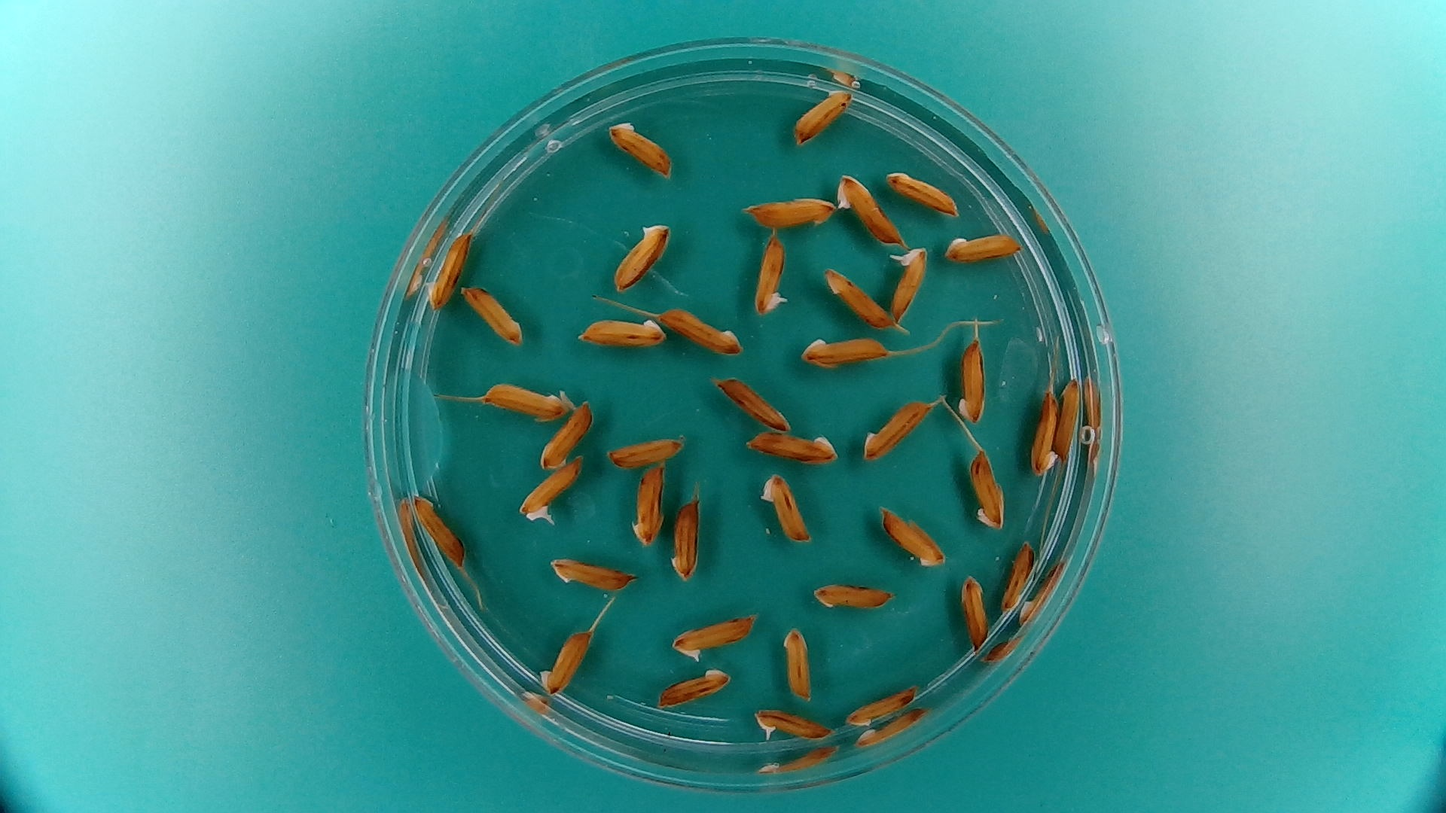no: (859, 395, 934, 464), (820, 264, 898, 330), (710, 372, 795, 431), (657, 303, 749, 357), (877, 501, 948, 570), (609, 218, 673, 294), (408, 491, 468, 569), (604, 116, 677, 179), (477, 376, 574, 422), (537, 394, 595, 470), (423, 227, 474, 312), (536, 625, 595, 697), (758, 469, 814, 544), (461, 281, 526, 345), (789, 84, 855, 147), (545, 552, 638, 596), (743, 424, 840, 466), (651, 662, 734, 711), (882, 166, 961, 216), (572, 310, 670, 350), (841, 682, 920, 730), (798, 330, 891, 370), (740, 191, 835, 230), (628, 458, 667, 548), (953, 333, 990, 425), (968, 447, 1008, 532), (809, 576, 898, 614), (604, 432, 688, 471), (1050, 372, 1085, 464), (667, 493, 702, 583), (941, 227, 1023, 265), (998, 536, 1036, 616), (1027, 386, 1060, 478), (779, 623, 815, 704), (957, 571, 990, 655)
yes: (831, 169, 906, 245), (667, 607, 762, 662), (516, 453, 586, 526), (749, 704, 835, 746), (750, 231, 791, 318), (886, 243, 929, 323)
